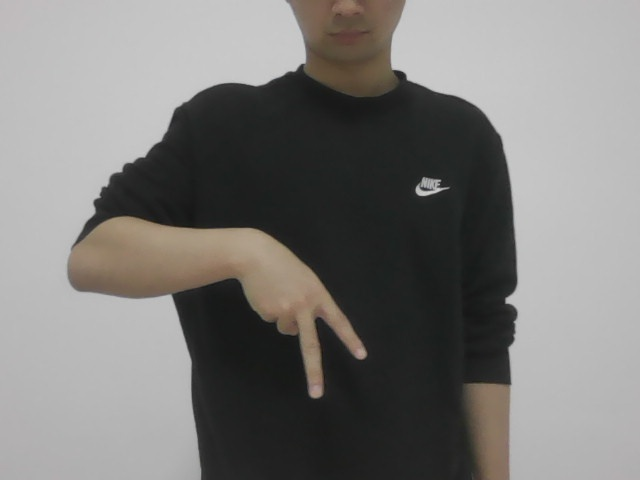walk: (226, 214, 376, 409)
